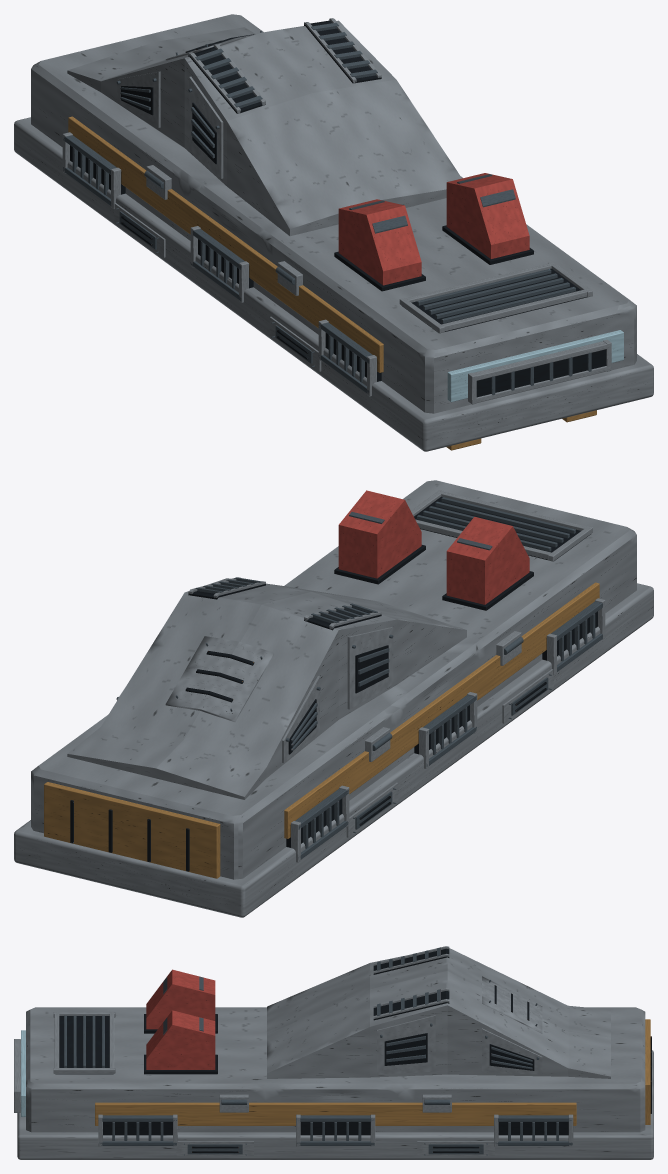
3 renders of one model, top to bottom at view 1: azimuth 30°, elevation 25°; view 2: azimuth 150°, elevation 25°; view 3: azimuth 270°, elevation 25°, orthographic. The views are drawn at different scales.
Parts seen in each view (by area): view 1: PrimaryHullAndArmour, RecessedMachinery, ServiceAssemblies; view 2: PrimaryHullAndArmour, RecessedMachinery, ServiceAssemblies; view 3: PrimaryHullAndArmour, RecessedMachinery, ServiceAssemblies.
Boxes of the visible parts, bbox=[...] form: PrimaryHullAndArmour: bbox=[14, 14, 653, 451]; RecessedMachinery: bbox=[119, 34, 606, 397]; ServiceAssemblies: bbox=[114, 18, 381, 371]; PrimaryHullAndArmour: bbox=[14, 480, 653, 917]; RecessedMachinery: bbox=[70, 496, 590, 871]; ServiceAssemblies: bbox=[188, 577, 553, 837]; PrimaryHullAndArmour: bbox=[14, 947, 653, 1159]; RecessedMachinery: bbox=[55, 985, 651, 1154]; ServiceAssemblies: bbox=[176, 946, 494, 1155].
Bounding box in the file's own units: 1.24 × 1.03 × 3.72.
Materials: 1 (1 with a texture image).
